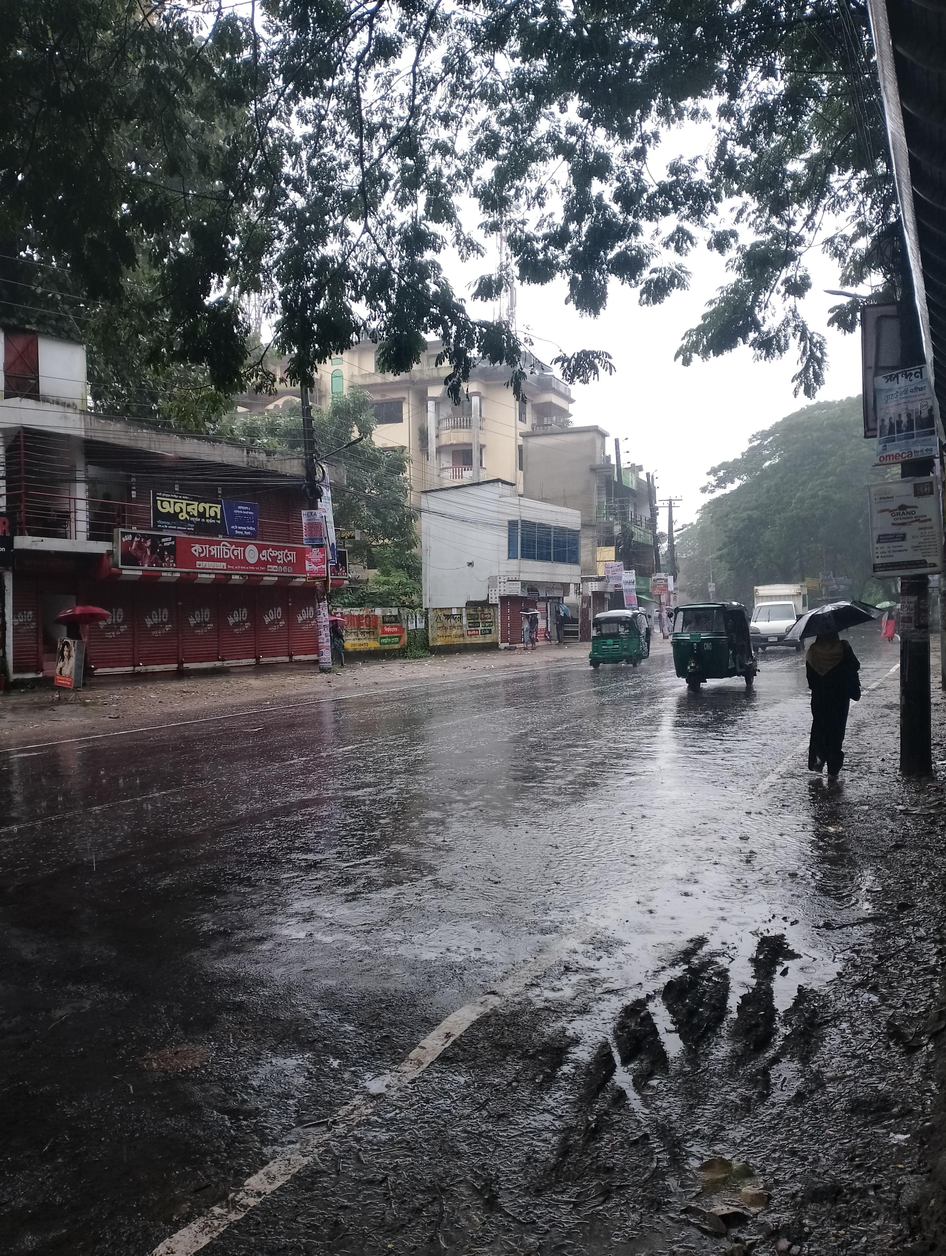Car: (733, 586, 827, 662)
